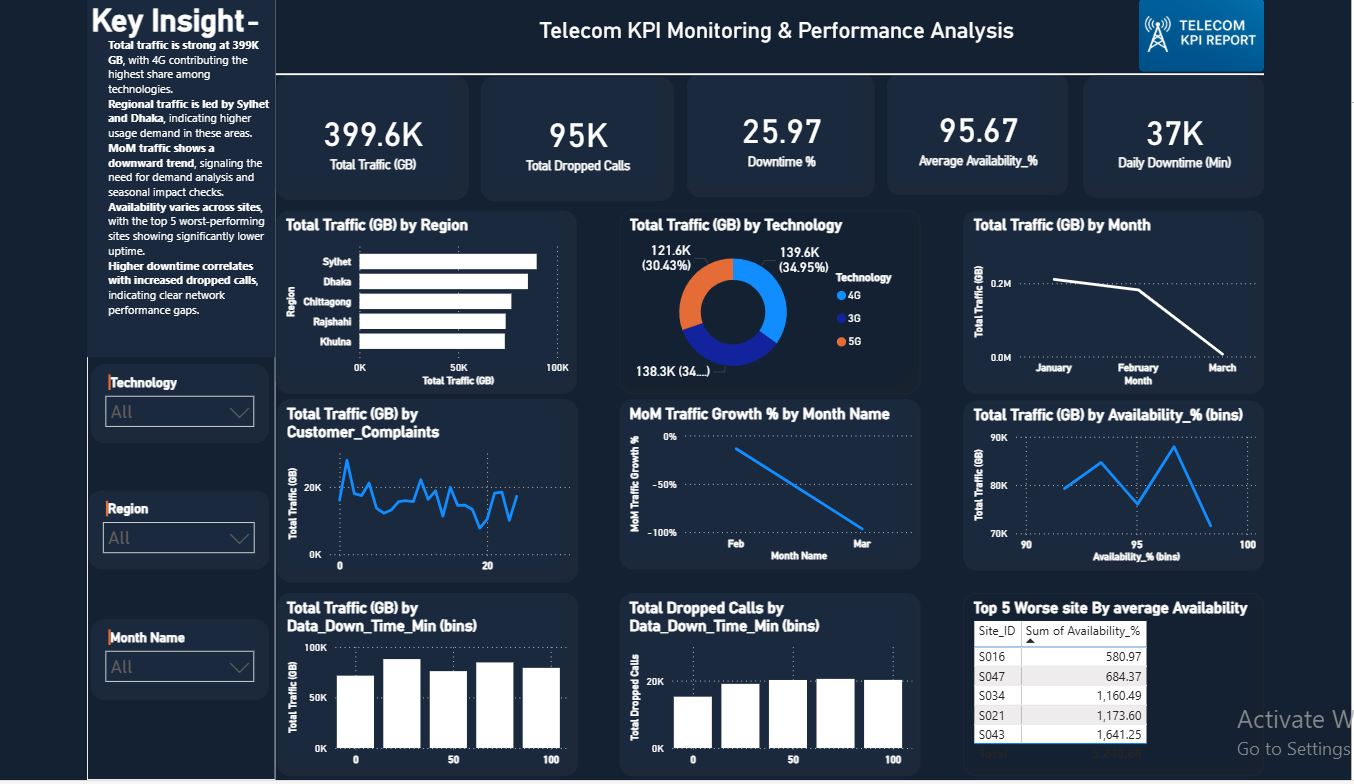

This screenshot's page, from the dashboard's own definition file:
{"tool":"powerbi","page":{"name":"Page 1","canvas":[1280,850],"ordinal":0},"visuals":[{"type":"textbox","box":[218.4,16.5,1061.9,64.6],"z":0},{"type":"image","box":[1142.9,0,137.4,81],"z":1},{"type":"shape","box":[0,0,205,850],"z":11},{"type":"card","fields":{"Values":["Measure.Total Traffic (GB)"]},"box":[205,84,209.3,135.3],"z":12},{"type":"card","fields":{"Values":["Measure.Total Dropped Calls"]},"box":[428.6,85.4,209.3,135.3],"z":13},{"type":"card","fields":{"Values":["Measure.Downtime %"]},"box":[652.1,81.2,203.6,135.3],"z":14},{"type":"card","fields":{"Values":["Measure.Average Availability_%"]},"box":[869.9,81.2,196.5,132.4],"z":15},{"type":"clusteredBarChart","fields":{"Y":["Measure.Total Traffic (GB)"],"Category":["Telecom Data.Region"]},"box":[205,230.7,327.5,199.3],"z":16},{"type":"donutChart","fields":{"Category":["Telecom Data.Technology"],"Y":["Measure.Total Traffic (GB)"]},"box":[579.5,230.7,327.5,199.3],"z":17},{"type":"lineChart","fields":{"Category":["DateMaster.Date.Variation.Date Hierarchy.Month"],"Y":["Measure.Total Traffic (GB)"]},"box":[952.5,230.7,327.5,199.3],"z":18},{"type":"shape","box":[205,69.8,1075,27.1],"z":19},{"type":"card","fields":{"Values":["Measure.Daily Downtime (Min)"]},"box":[1083.5,84,196.5,132.4],"z":20},{"type":"lineChart","fields":{"Y":["Measure.Total Traffic (GB)"],"Category":["Telecom Data.Customer_Complaints"]},"box":[206.4,435.7,327.5,199.3],"z":21},{"type":"clusteredColumnChart","fields":{"Y":["Measure.Total Traffic (GB)"],"Category":["Telecom Data.Data_Down_Time_Min (bins)"]},"box":[206.4,646.4,327.5,199.3],"z":22},{"type":"lineChart","fields":{"Y":["Measure.MoM Traffic Growth %"],"Category":["DateMaster.Month Name"]},"box":[579.5,435.7,327.5,185.1],"z":23},{"type":"lineChart","fields":{"Y":["Measure.Total Traffic (GB)"],"Category":["Telecom Data.Availability_% (bins)"]},"box":[952.5,437.1,327.5,185.1],"z":24},{"type":"clusteredColumnChart","fields":{"Category":["Telecom Data.Data_Down_Time_Min (bins)"],"Y":["Measure.Total Dropped Calls"]},"box":[579.5,646.4,327.5,199.3],"z":25},{"type":"tableEx","title":"Top 5 Worse site By average Availability","fields":{"Values":["Telecom Data.Site_ID","Sum(Telecom Data.Availability_%)"]},"box":[952.5,646.4,327.5,199.3],"z":26},{"type":"textbox","box":[0,0,205,390.1],"z":27},{"type":"slicer","fields":{"Values":["Telecom Data.Technology"]},"box":[4.3,398.7,193.6,85.4],"z":28},{"type":"slicer","fields":{"Values":["Telecom Data.Region"]},"box":[1.4,535.3,196.5,85.4],"z":29},{"type":"slicer","fields":{"Values":["DateMaster.Month Name"]},"box":[4.3,674.9,193.6,88.3],"z":30}]}

Visuals, with their boxes on the page's 1280x850 design canvas (x1, y1, x2, y2). These are canvas units, not pixel positions in the 1354x784 screenshot, which may show the page scaled, cropped or inside an application window:
textbox: Rect(218, 16, 1280, 81)
image: Rect(1143, 0, 1280, 81)
shape: Rect(0, 0, 205, 850)
card - Measure.Total Traffic (GB): Rect(205, 84, 414, 219)
card - Measure.Total Dropped Calls: Rect(429, 85, 638, 221)
card - Measure.Downtime %: Rect(652, 81, 856, 216)
card - Measure.Average Availability_%: Rect(870, 81, 1066, 214)
clusteredBarChart - Measure.Total Traffic (GB) x Telecom Data.Region: Rect(205, 231, 532, 430)
donutChart - Telecom Data.Technology x Measure.Total Traffic (GB): Rect(580, 231, 907, 430)
lineChart - DateMaster.Date.Variation.Date Hierarchy.Month x Measure.Total Traffic (GB): Rect(952, 231, 1280, 430)
shape: Rect(205, 70, 1280, 97)
card - Measure.Daily Downtime (Min): Rect(1084, 84, 1280, 216)
lineChart - Measure.Total Traffic (GB) x Telecom Data.Customer_Complaints: Rect(206, 436, 534, 635)
clusteredColumnChart - Measure.Total Traffic (GB) x Telecom Data.Data_Down_Time_Min (bins): Rect(206, 646, 534, 846)
lineChart - Measure.MoM Traffic Growth % x DateMaster.Month Name: Rect(580, 436, 907, 621)
lineChart - Measure.Total Traffic (GB) x Telecom Data.Availability_% (bins): Rect(952, 437, 1280, 622)
clusteredColumnChart - Telecom Data.Data_Down_Time_Min (bins) x Measure.Total Dropped Calls: Rect(580, 646, 907, 846)
"Top 5 Worse site By average Availability" tableEx: Rect(952, 646, 1280, 846)
textbox: Rect(0, 0, 205, 390)
slicer - Telecom Data.Technology: Rect(4, 399, 198, 484)
slicer - Telecom Data.Region: Rect(1, 535, 198, 621)
slicer - DateMaster.Month Name: Rect(4, 675, 198, 763)
